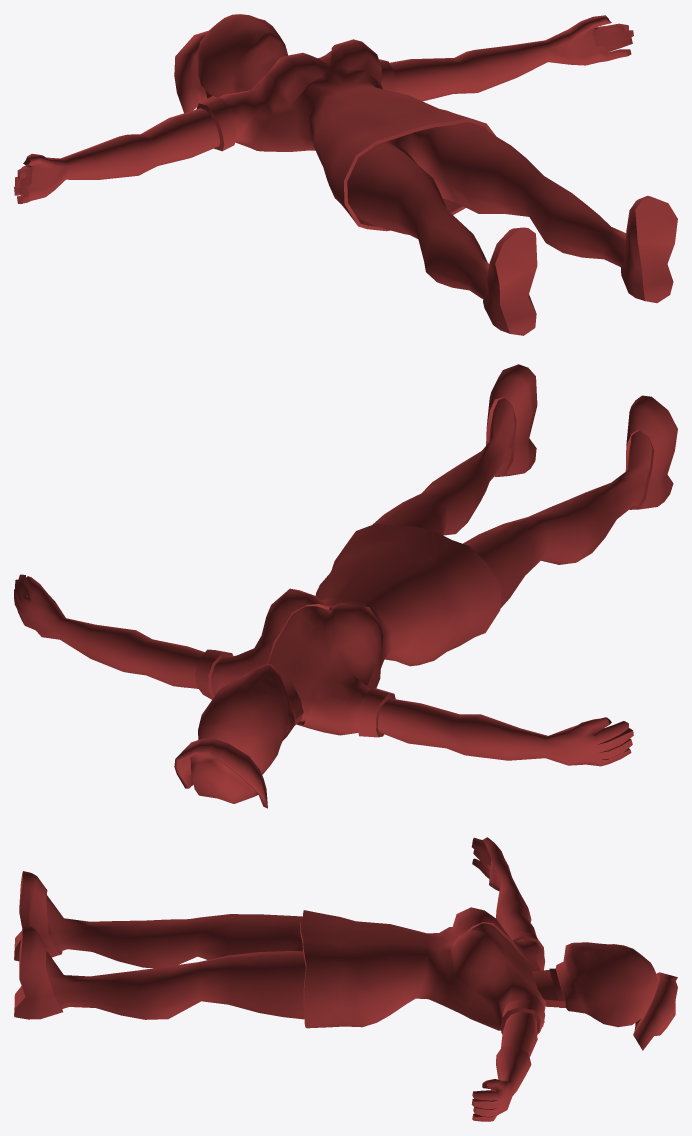
The model's file is W_SH_Nurse_2.FBX.
3 views of the same model, one above another, from view 1: azimuth 30°, elevation 25°; view 2: azimuth 150°, elevation 25°; view 3: azimuth 270°, elevation 25° (orthographic). The views are drawn at different scales.
Parts seen in each view (by area): view 1: Body; view 2: Body; view 3: Body.
Boxes of the visible parts, bbox=[...] form: Body: bbox=[14, 14, 677, 335]; Body: bbox=[14, 364, 677, 808]; Body: bbox=[14, 837, 677, 1121].
Size of the model in its own units: 104 by 24.94 by 112.
